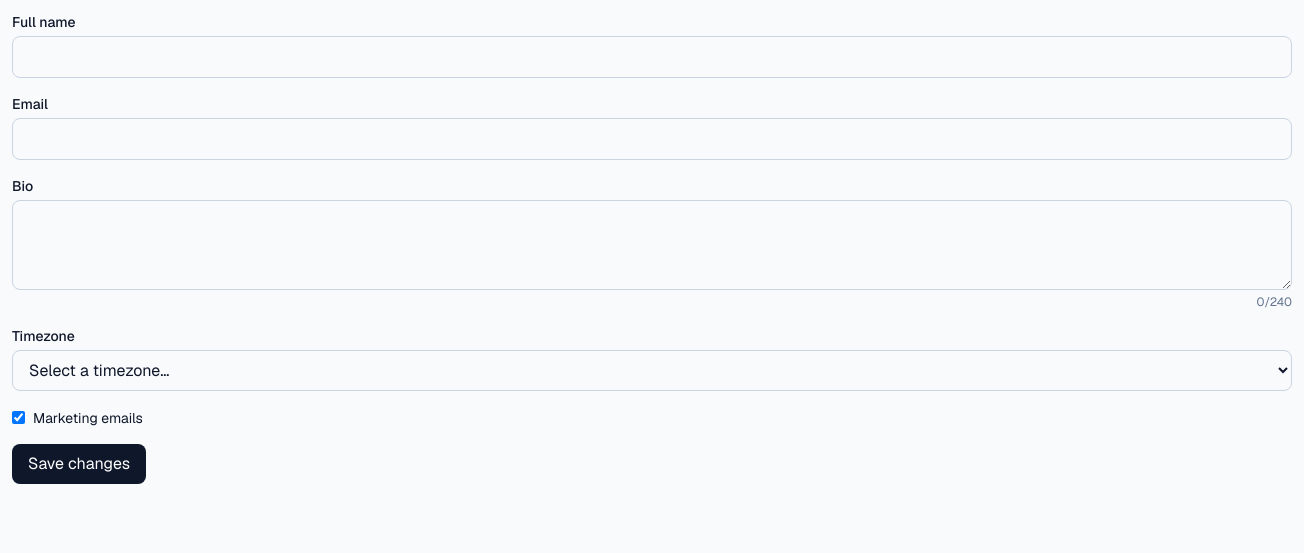
it: SettingsForm › clears the success message once the user edits again
The image size is (1304, 553).
Step 1. Type "Rajin Shahriar" into the field labelled "Full name" → (652, 57), box [12,36,1292,78]
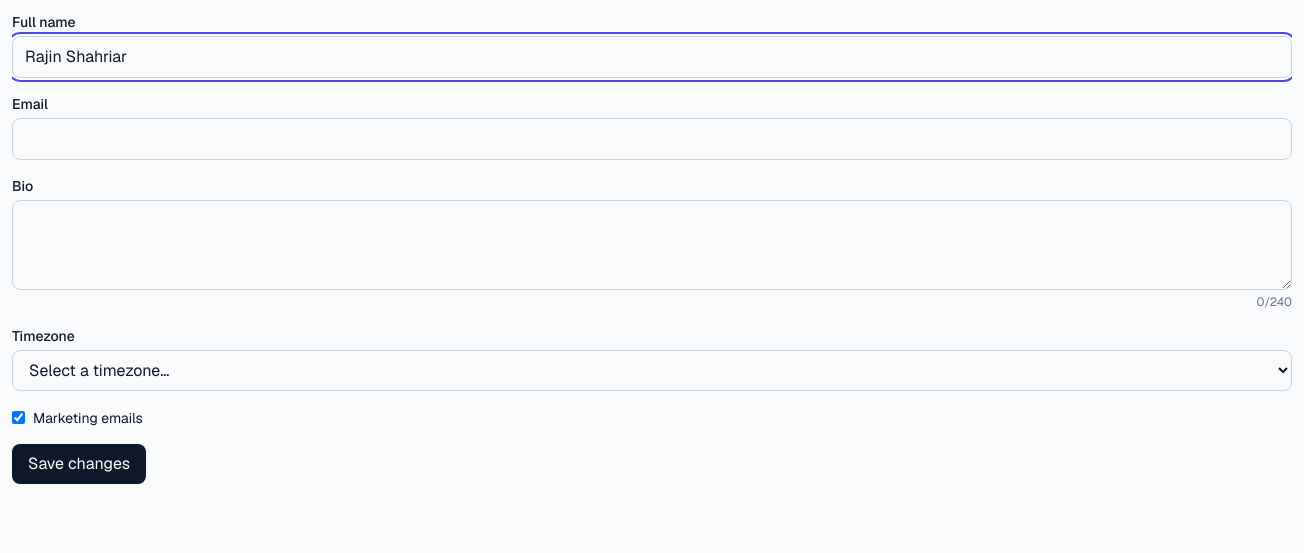
Step 2. Type "RAJIN@example.com" into the field labelled "Email" → (652, 139), box [12,118,1292,160]
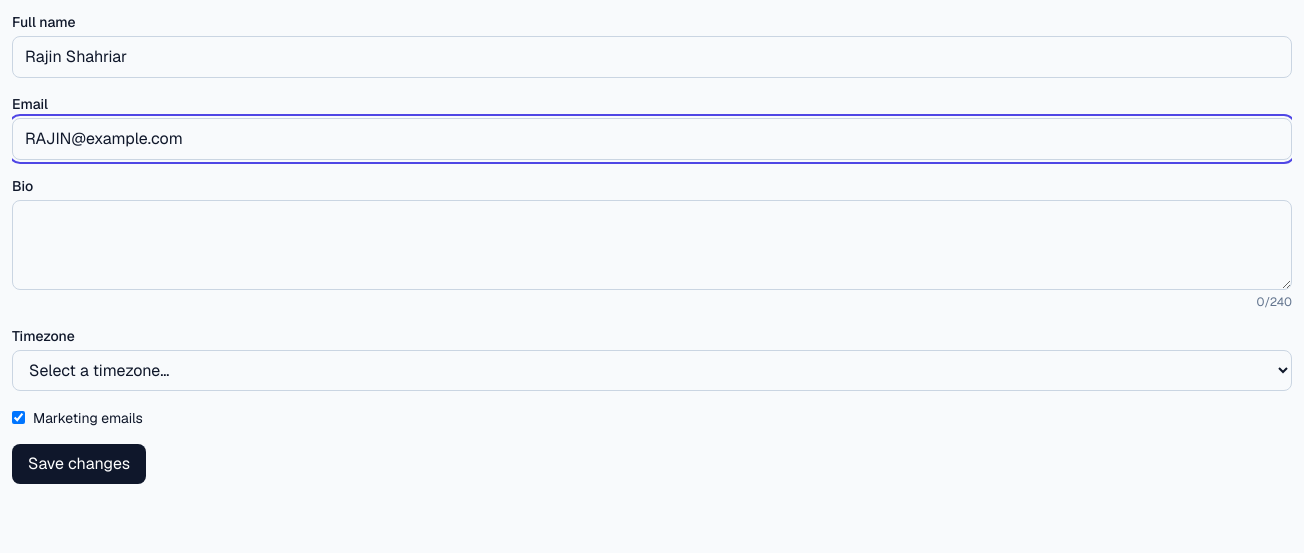
Step 3. Select "Asia/Dhaka" in the dropdown labelled "Timezone" → (652, 370), box [12,350,1292,391]
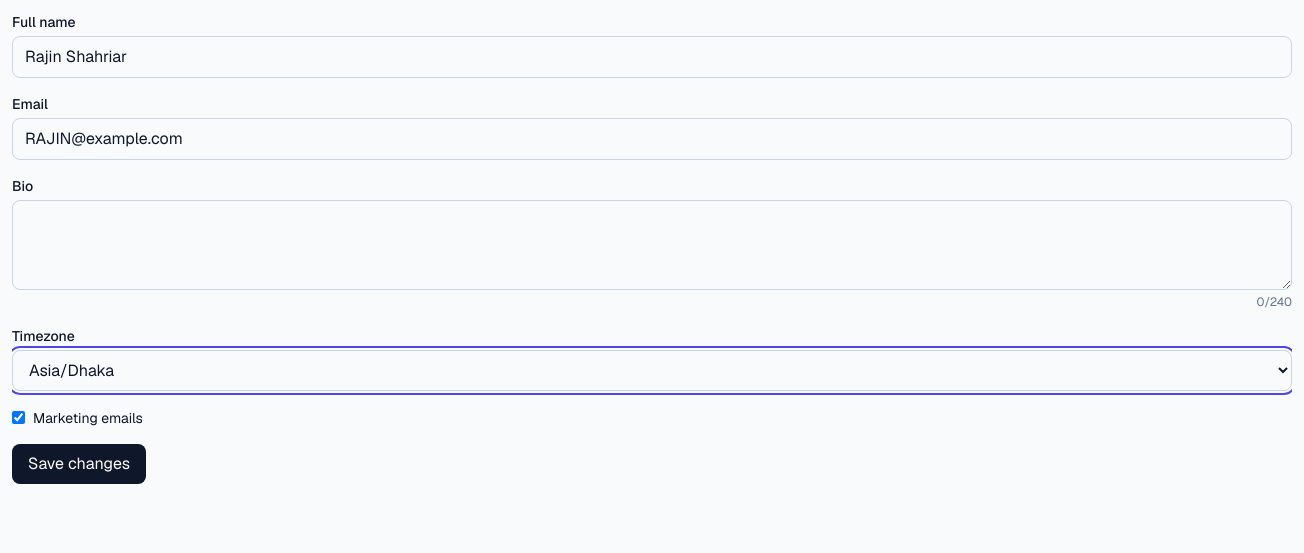
Step 4. Click the button "Save changes" → click(79, 464), box [12,444,146,484]
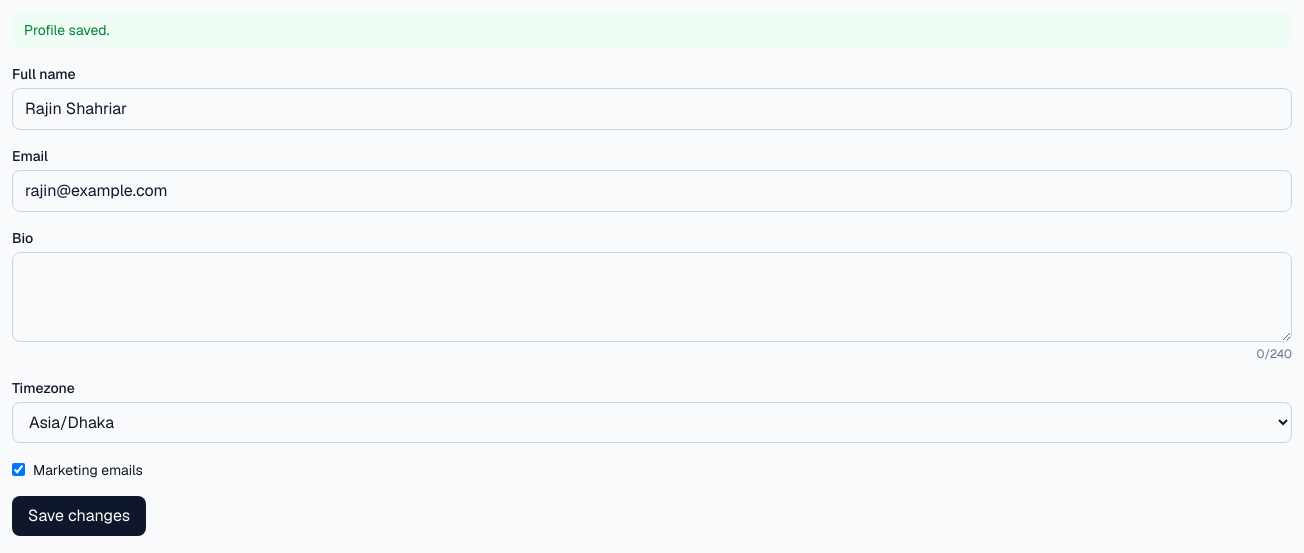
Now the text "Profile saved." is shown, box [12,12,1292,48]
Step 5. Type "x" into the field labelled "Full name" → (652, 109), box [12,88,1292,130]
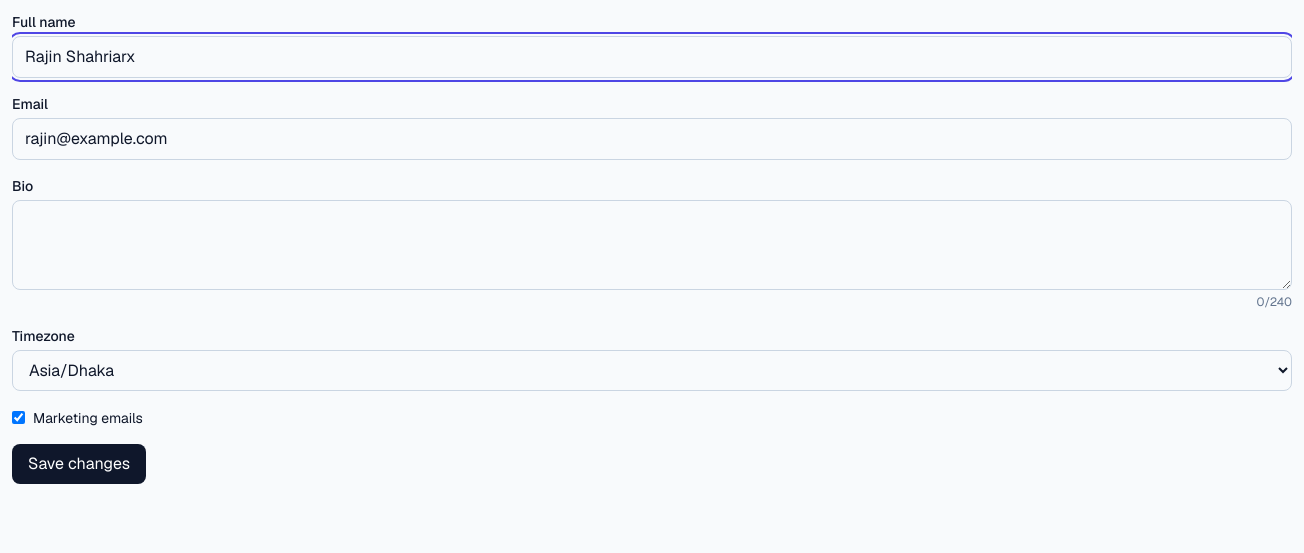
Now the text "Profile saved." is gone
